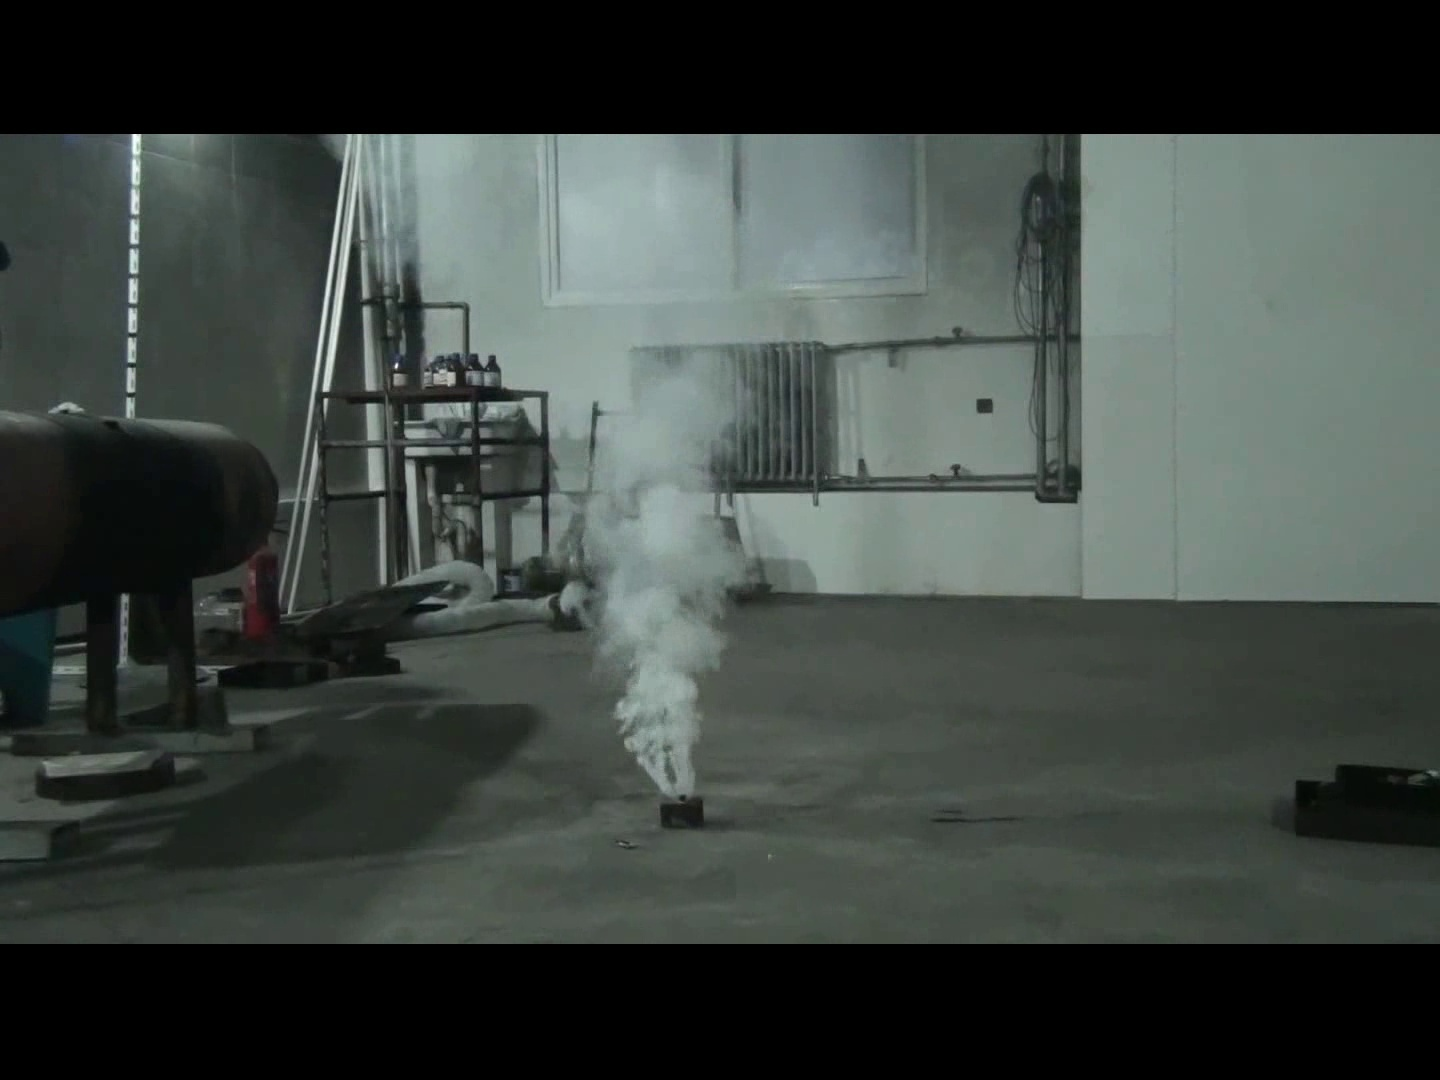smoke: (532, 314, 765, 778)
